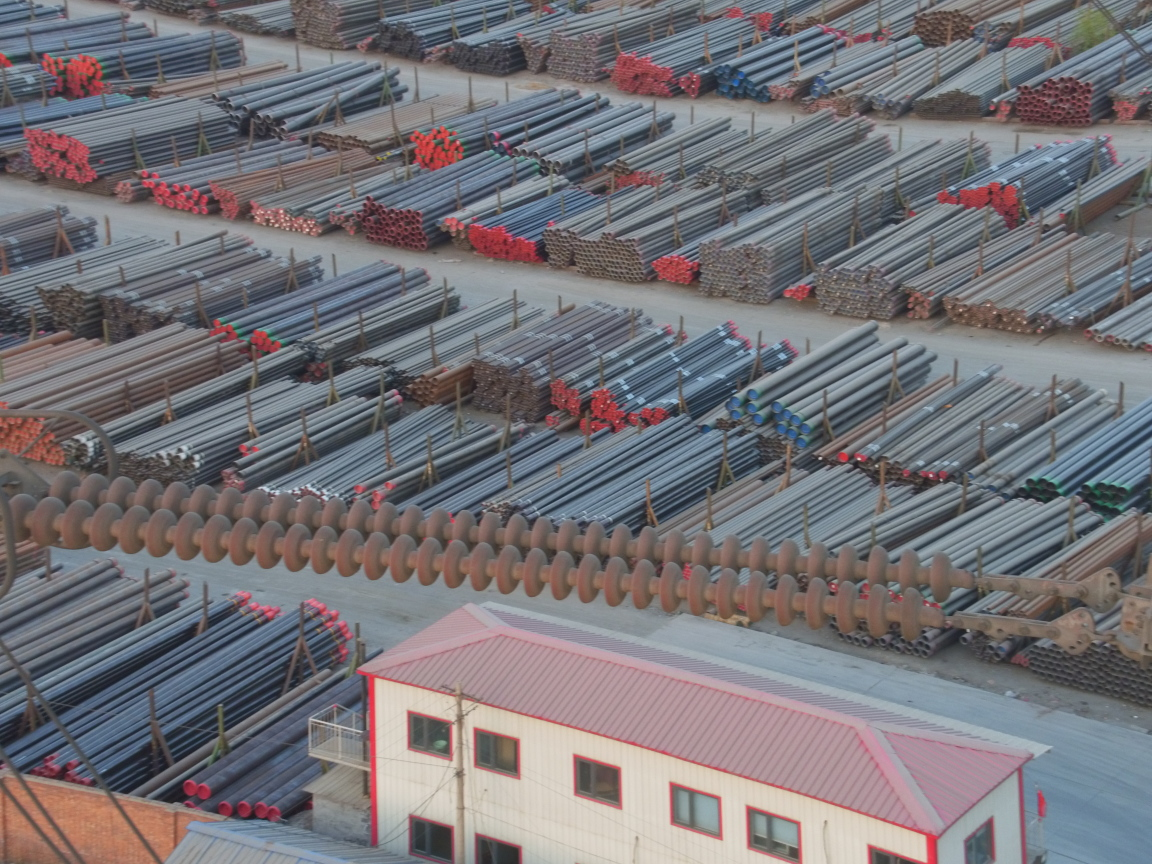insulator: (1, 465, 1022, 645)
